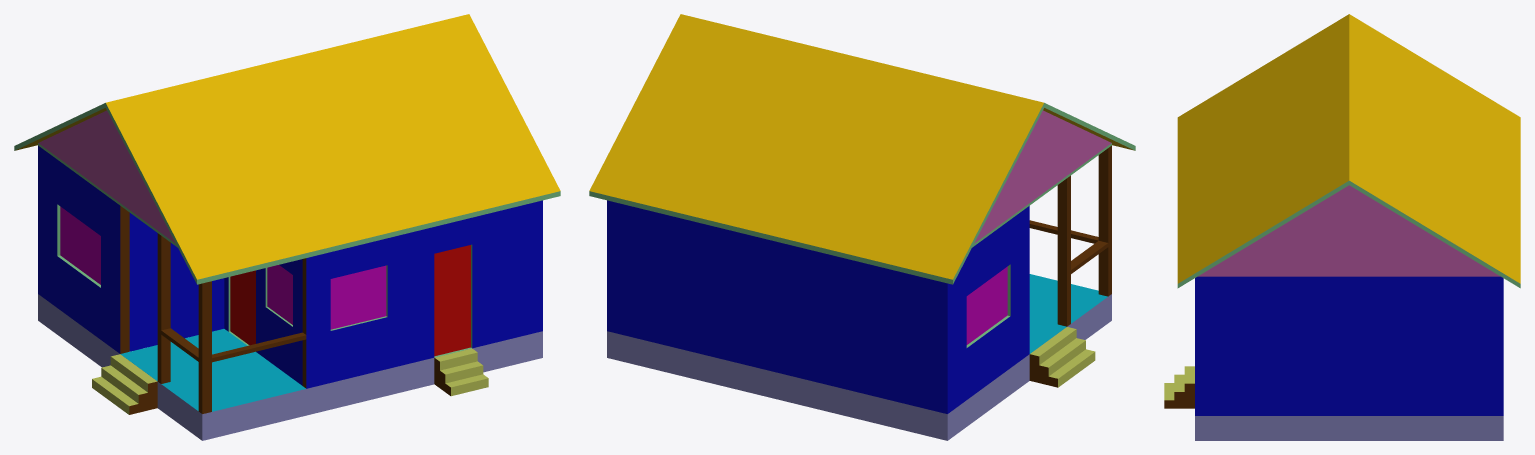
File: bigSmoke3.fbx
3 renders of one model, left to right at view 1: azimuth 30°, elevation 25°; view 2: azimuth 150°, elevation 25°; view 3: azimuth 270°, elevation 25°, orthographic. The views are drawn at different scales.
Visible parts, largest first — view 1: bake; view 2: bake; view 3: bake.
Boxes of the visible parts, left/top/right/bottom form: bake: left=14, top=14, right=560, bottom=440; bake: left=589, top=14, right=1135, bottom=440; bake: left=1164, top=14, right=1520, bottom=440.
Bounding box in the file's own units: 798 × 569 × 696.
